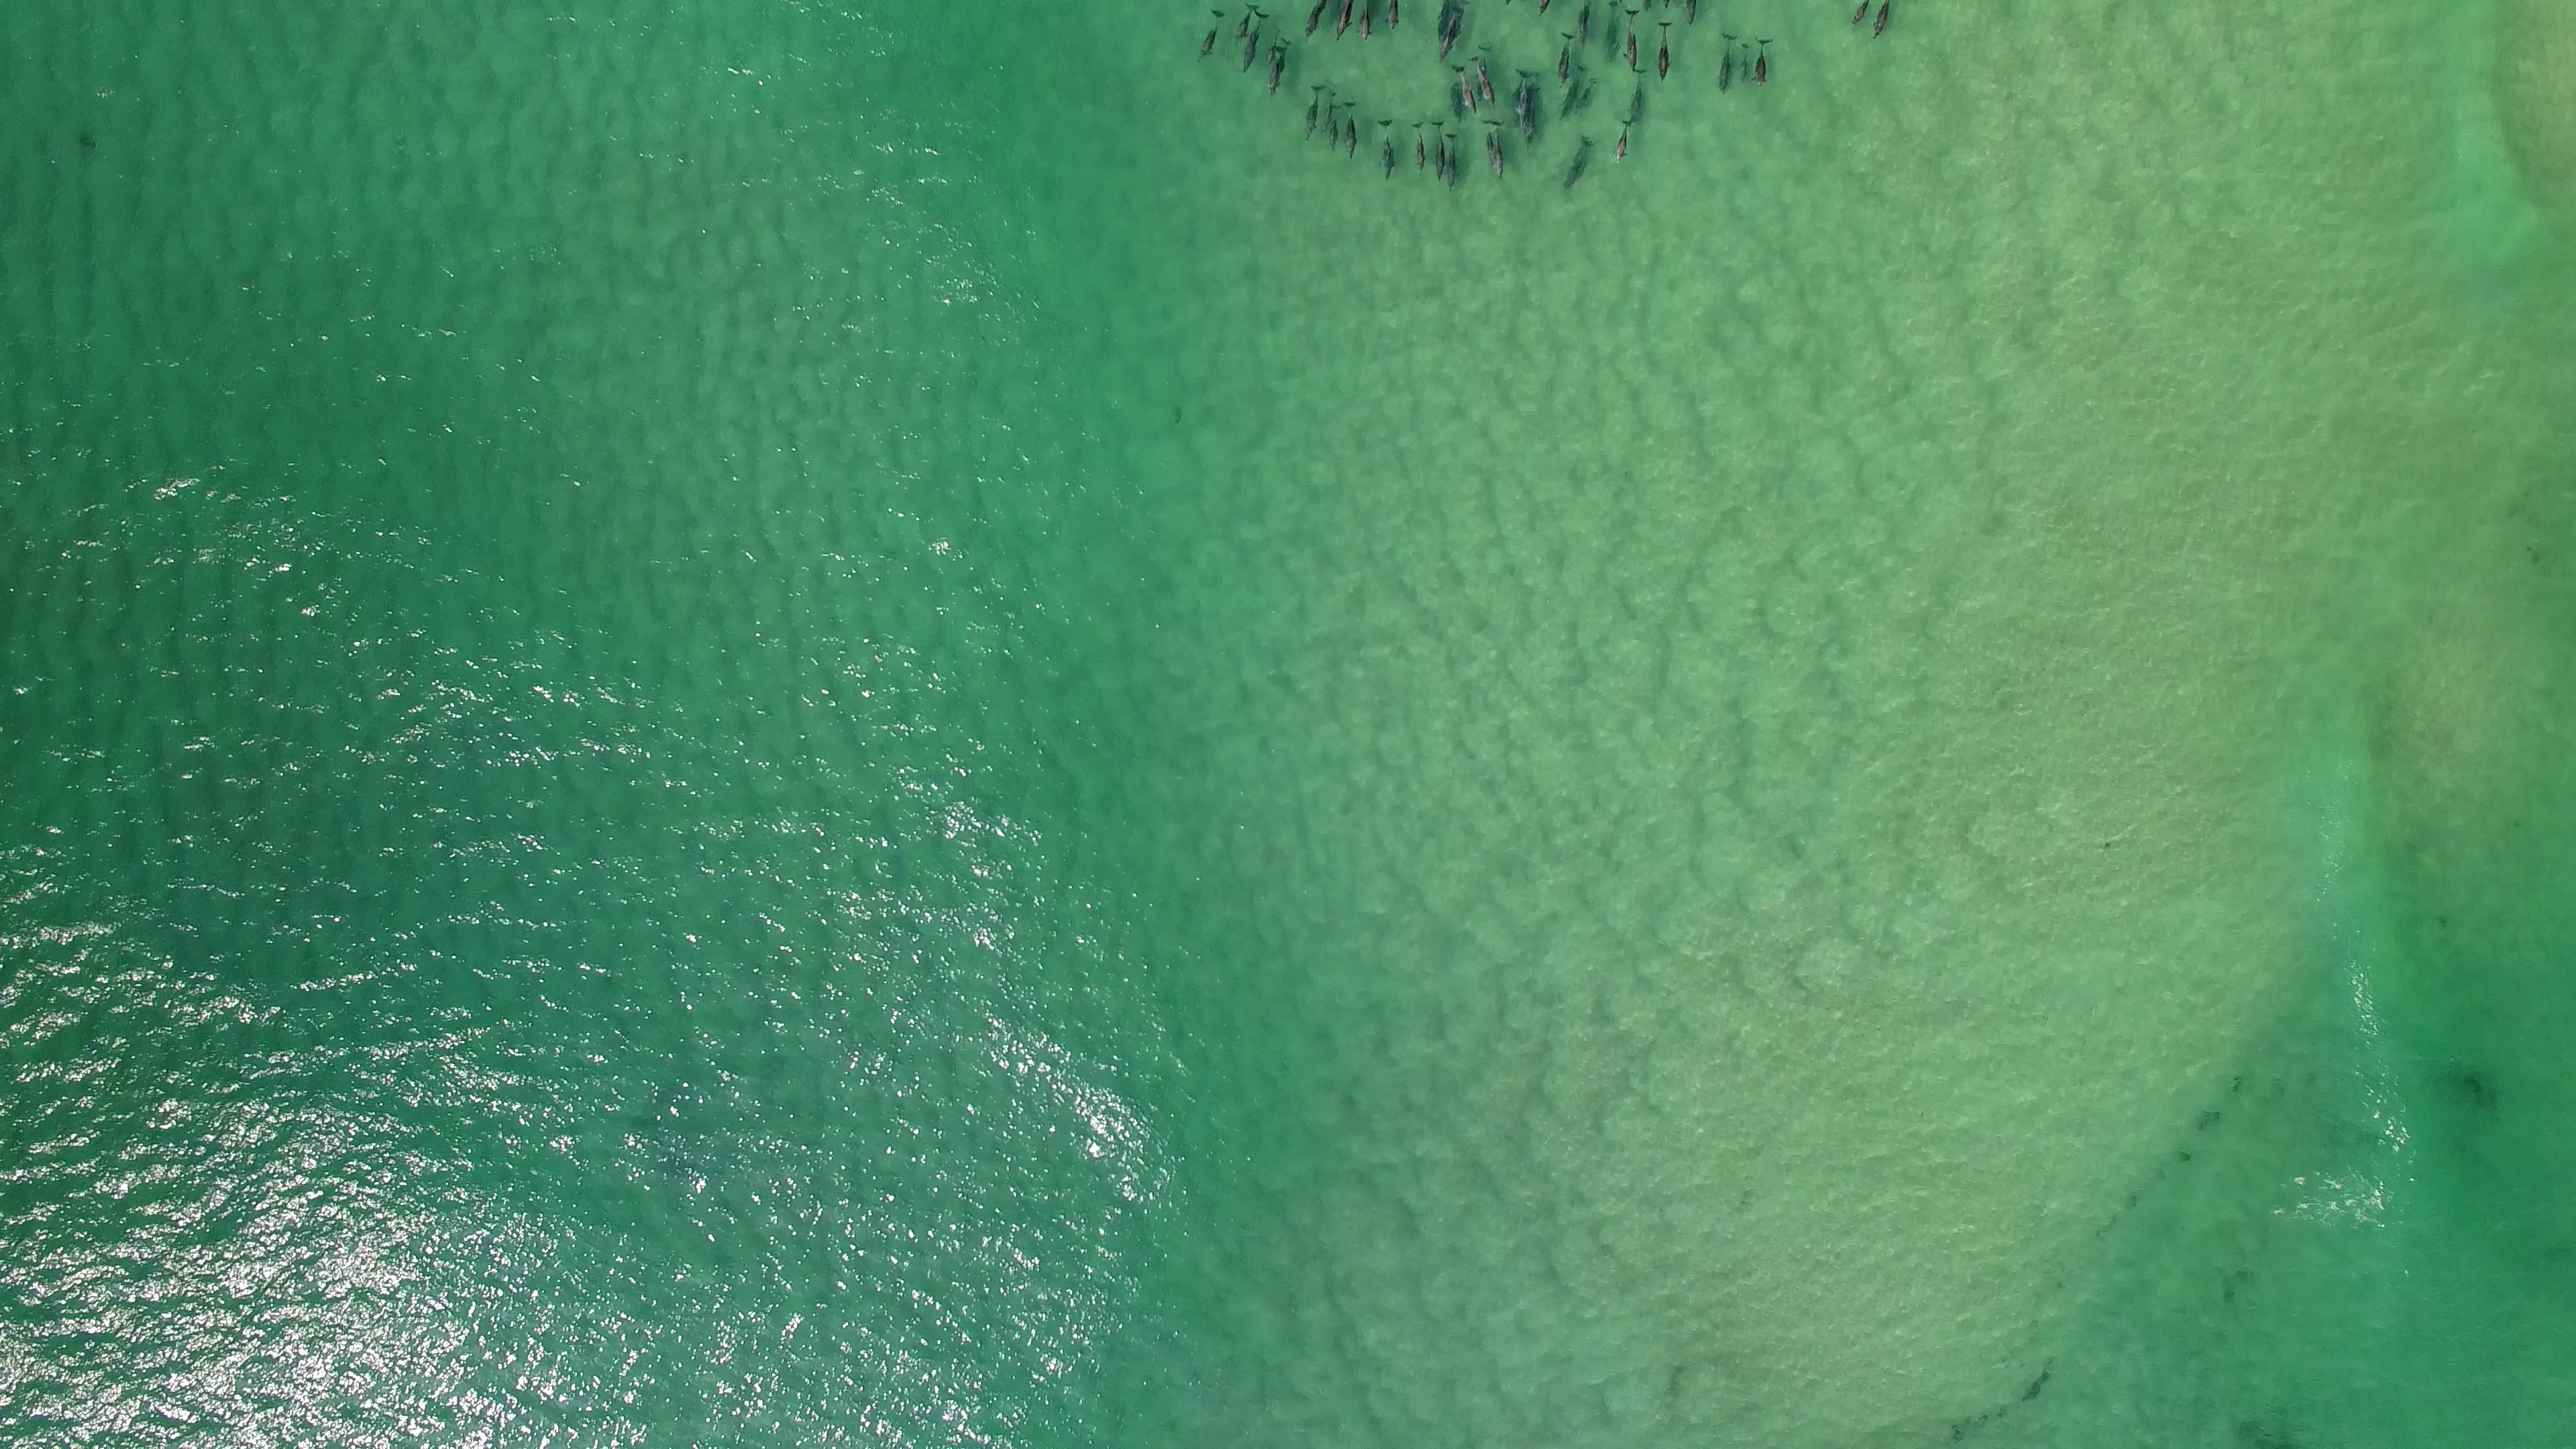dolphin: (1560, 133, 1594, 191), (1437, 9, 1472, 62), (1263, 37, 1297, 92), (1238, 11, 1269, 69), (1560, 64, 1591, 119), (1191, 9, 1226, 55), (1711, 30, 1736, 96), (1449, 64, 1479, 117), (1468, 57, 1499, 110), (1511, 65, 1536, 127), (1226, 4, 1260, 48), (1375, 117, 1396, 184), (1300, 83, 1323, 143), (1341, 99, 1362, 157), (1752, 35, 1775, 88), (1605, 0, 1624, 60), (1557, 30, 1578, 85), (1656, 18, 1674, 83), (1527, 83, 1543, 156), (1302, 0, 1330, 39), (1870, 0, 1898, 37), (1490, 117, 1506, 182), (1410, 120, 1428, 179), (1575, 76, 1601, 115), (1629, 67, 1647, 126), (1844, 0, 1879, 28), (1614, 119, 1635, 165), (1332, 0, 1357, 39), (1430, 117, 1444, 184), (1626, 5, 1640, 69), (1479, 122, 1497, 172), (1260, 32, 1283, 69), (1433, 0, 1456, 37), (1445, 133, 1458, 200), (1736, 41, 1752, 87), (1320, 90, 1338, 131), (1357, 0, 1375, 39), (1578, 0, 1591, 48), (1384, 0, 1401, 30), (1451, 81, 1463, 122), (1330, 106, 1341, 152), (1684, 0, 1700, 23), (1536, 0, 1550, 16), (1665, 0, 1675, 9), (1507, 0, 1513, 5)
